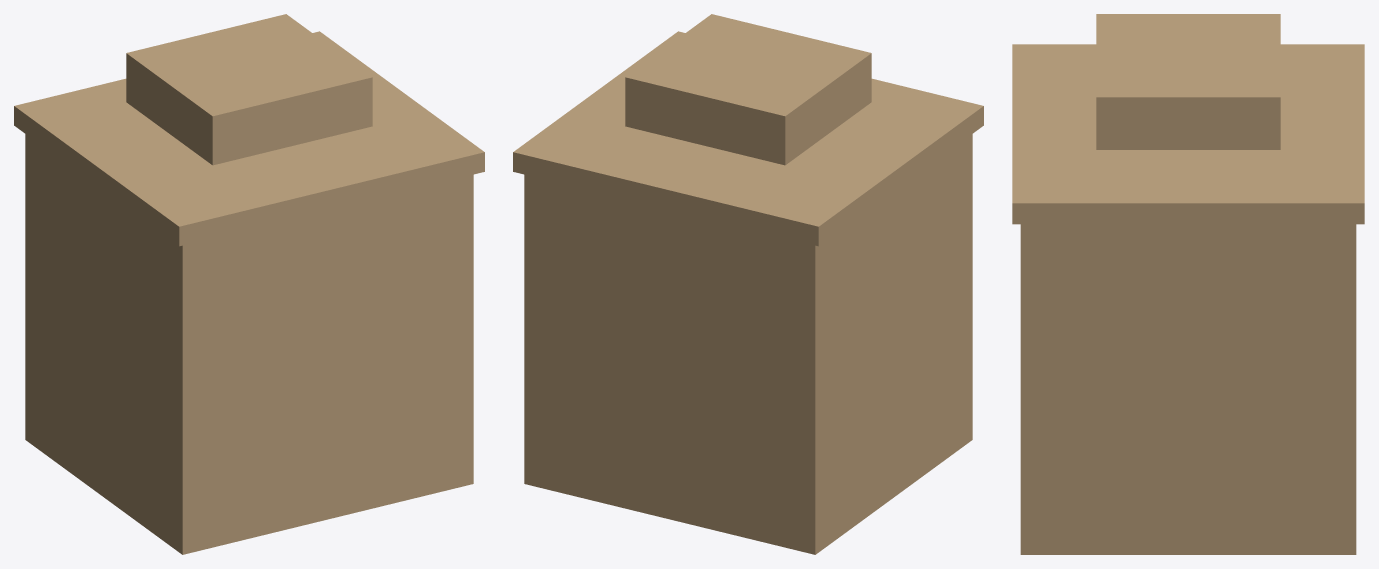
Rendered from res_hip_t1.glb.
3 views of the same model, side by side, from view 1: azimuth 30°, elevation 25°; view 2: azimuth 150°, elevation 25°; view 3: azimuth 270°, elevation 25° (orthographic). The views are drawn at different scales.
Visible parts, largest first — view 1: res_hip_t1; view 2: res_hip_t1; view 3: res_hip_t1.
Boxes of the visible parts, x1,y1,x2,y2 form: res_hip_t1: [14, 14, 484, 554]; res_hip_t1: [513, 14, 983, 554]; res_hip_t1: [1012, 14, 1364, 554].
Bounding box in the file's own units: 0.651 × 0.8075 × 0.609.
